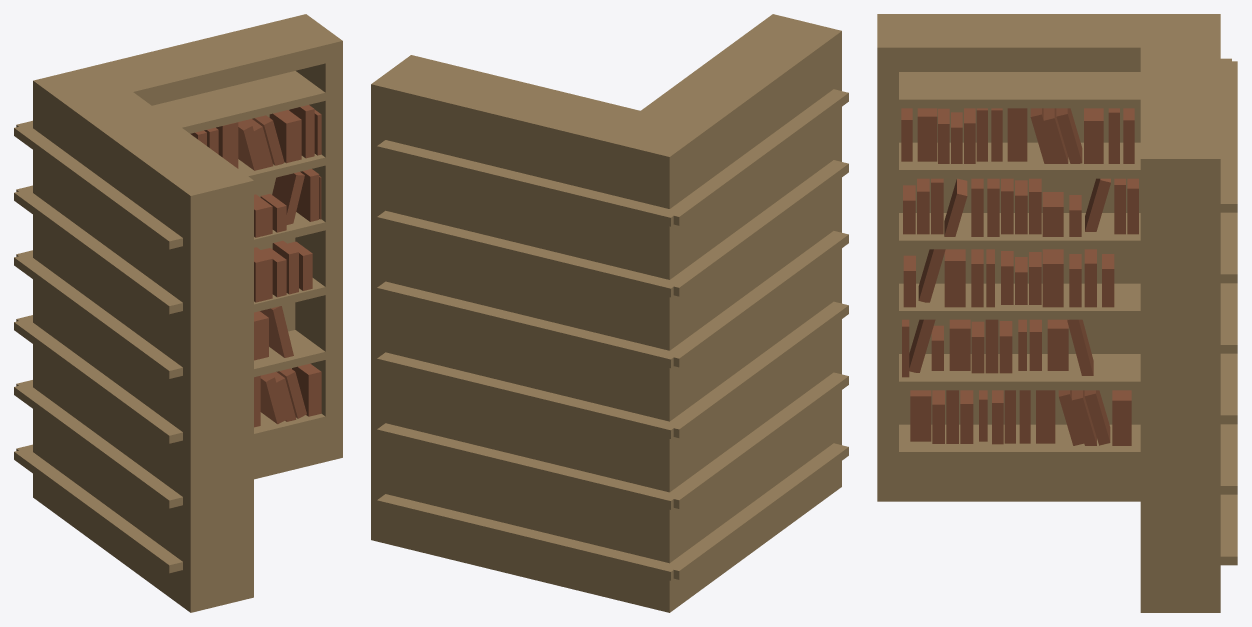
The model's file is bookshelf.fbx.
3 renders of one model, left to right at view 1: azimuth 30°, elevation 25°; view 2: azimuth 150°, elevation 25°; view 3: azimuth 270°, elevation 25°, orthographic. The views are drawn at different scales.
Visible parts, largest first — view 1: bookshelf; view 2: bookshelf; view 3: bookshelf.
Boxes of the visible parts, left/top/right/bottom form: bookshelf: left=14, top=14, right=342, bottom=612; bookshelf: left=371, top=14, right=848, bottom=612; bookshelf: left=877, top=14, right=1237, bottom=612.
Size of the model in its own units: 6.39 by 8.88 by 6.39.
